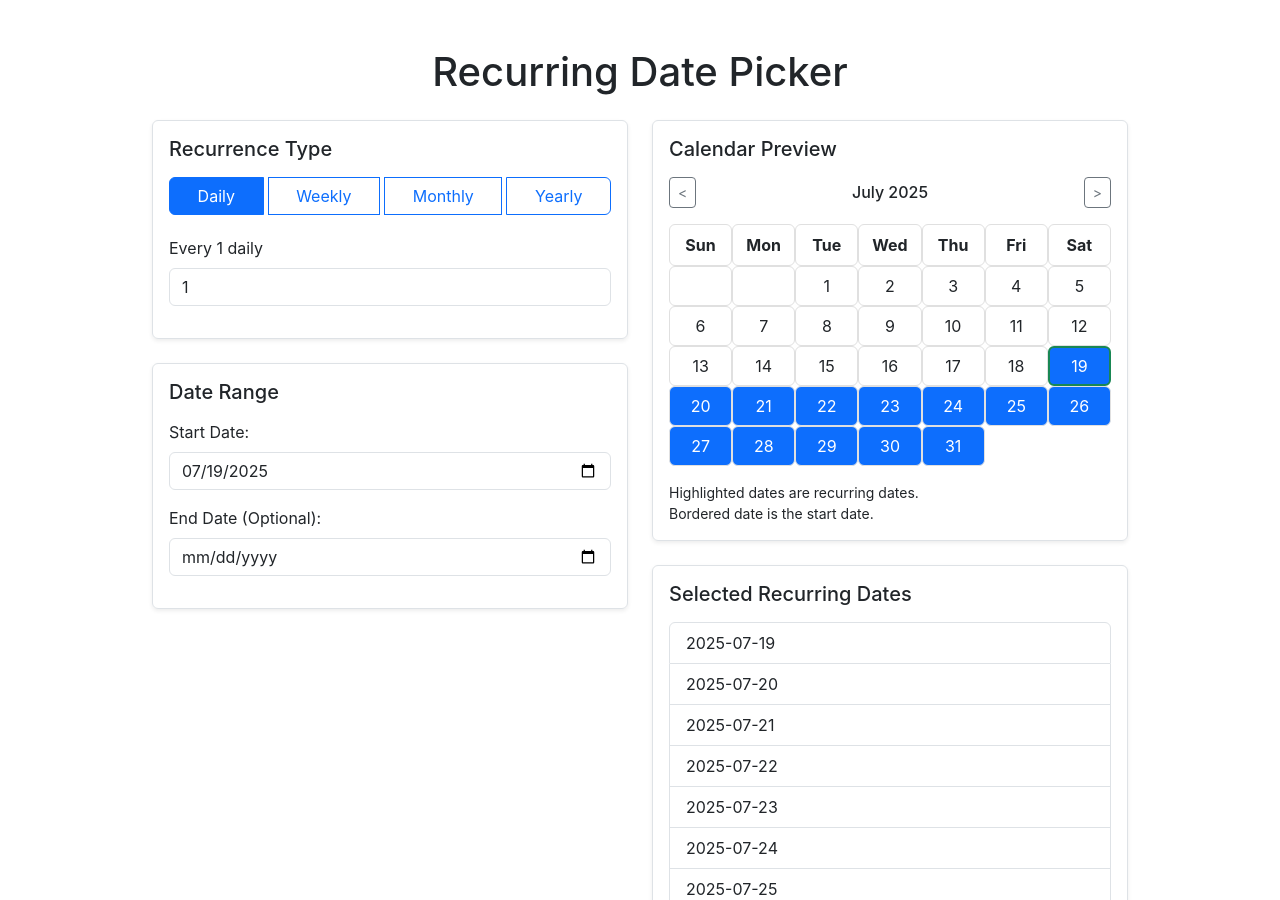
Test: RecurringDatePicker Component Integration Tests › should update generated dates and calendar when start date changes
The image size is (1280, 900).
Change start date to August 1, 2025 (Friday)
Type "2025-08-01" into the date field labelled "Start Date:". click: (390, 471)
box: [169,452,611,490]
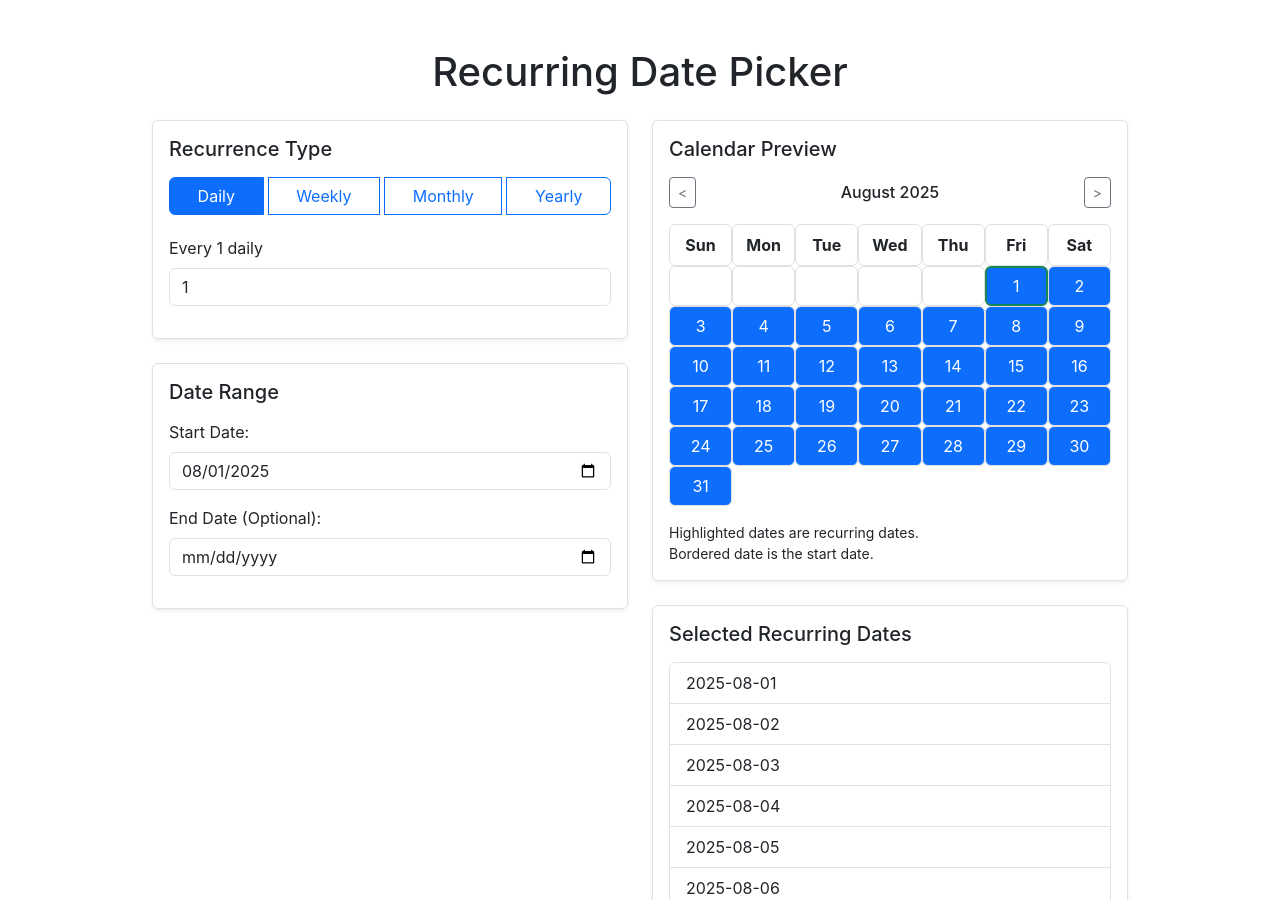
Now the heading "August 2025" is shown, box [841,183,939,202]
Now the list item "2025-08-01" is shown, box [669,662,1111,704]
Now the list item "2025-07-19" is gone
